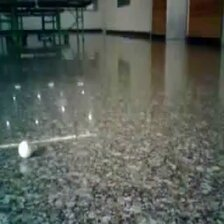w: (18, 140, 31, 158)
